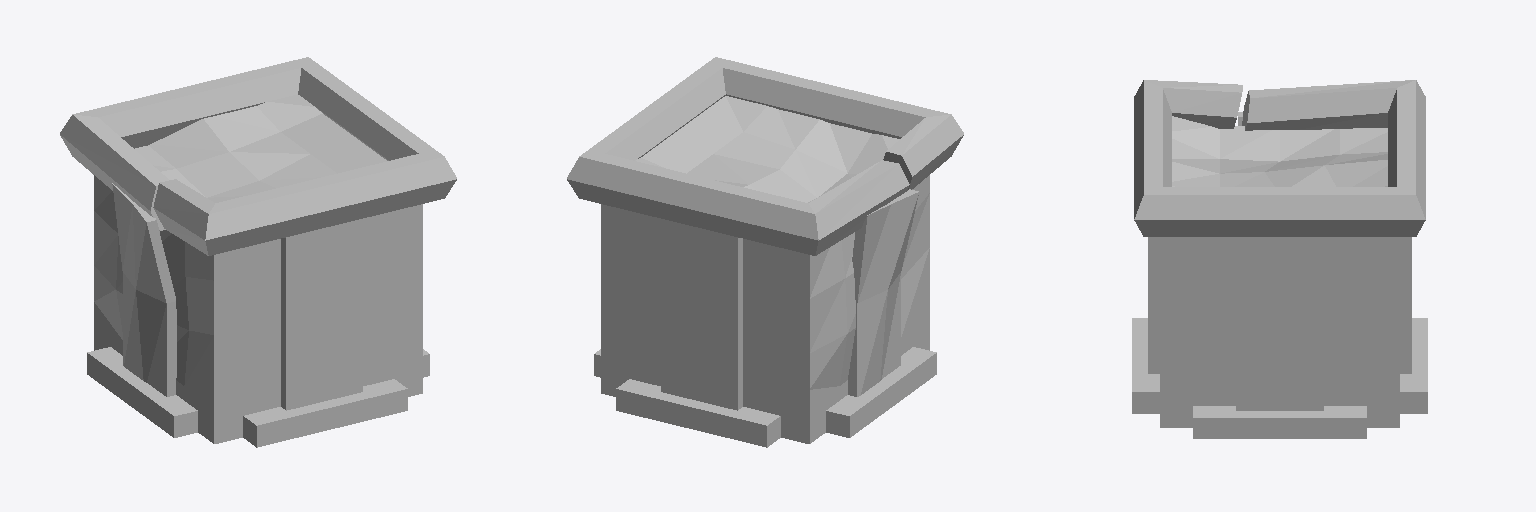
Rendered from hammerstand-broken.obj.
The picture shows the model from 3 angles: view 1: azimuth 30°, elevation 25°; view 2: azimuth 150°, elevation 25°; view 3: azimuth 270°, elevation 25°; orthographic projection.
Parts seen in each view (by area): view 1: hammerstand-broken_Cube.000; view 2: hammerstand-broken_Cube.000; view 3: hammerstand-broken_Cube.000.
Part boxes in pixels (bbox=[...]): hammerstand-broken_Cube.000: bbox=[60, 57, 456, 447]; hammerstand-broken_Cube.000: bbox=[567, 57, 963, 447]; hammerstand-broken_Cube.000: bbox=[1132, 80, 1427, 438].
Bounding box in the file's own units: 1.12 × 0.9878 × 1.1.